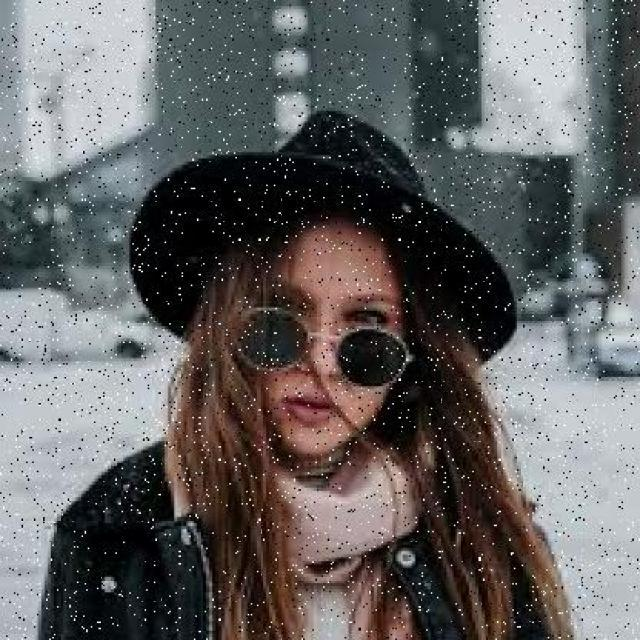glasses: (216, 283, 422, 408)
